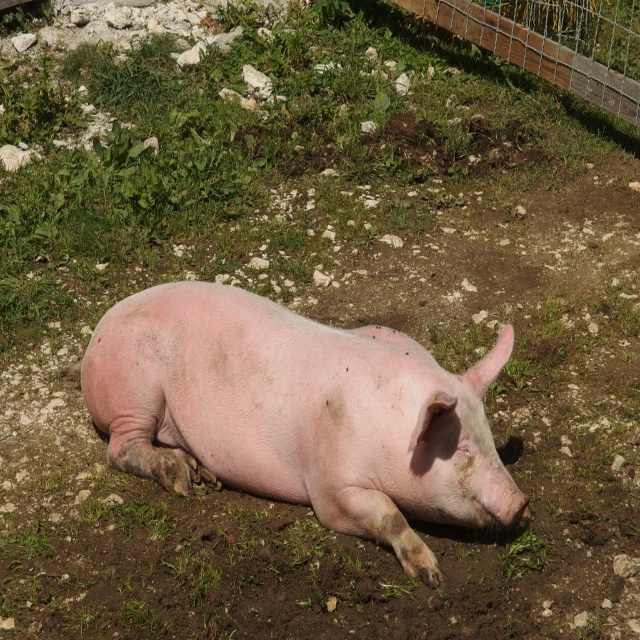Pig: (79, 282, 531, 589)
